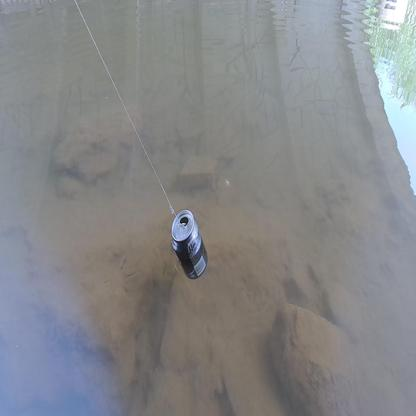can: (169, 209, 208, 281)
